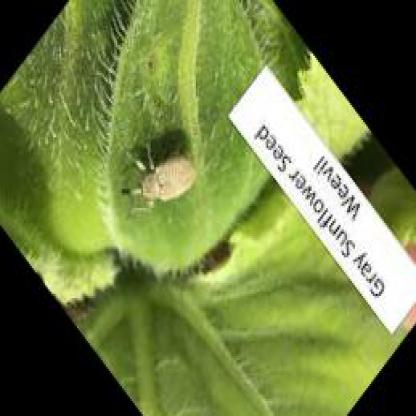ash weevil: (123, 146, 196, 216)
